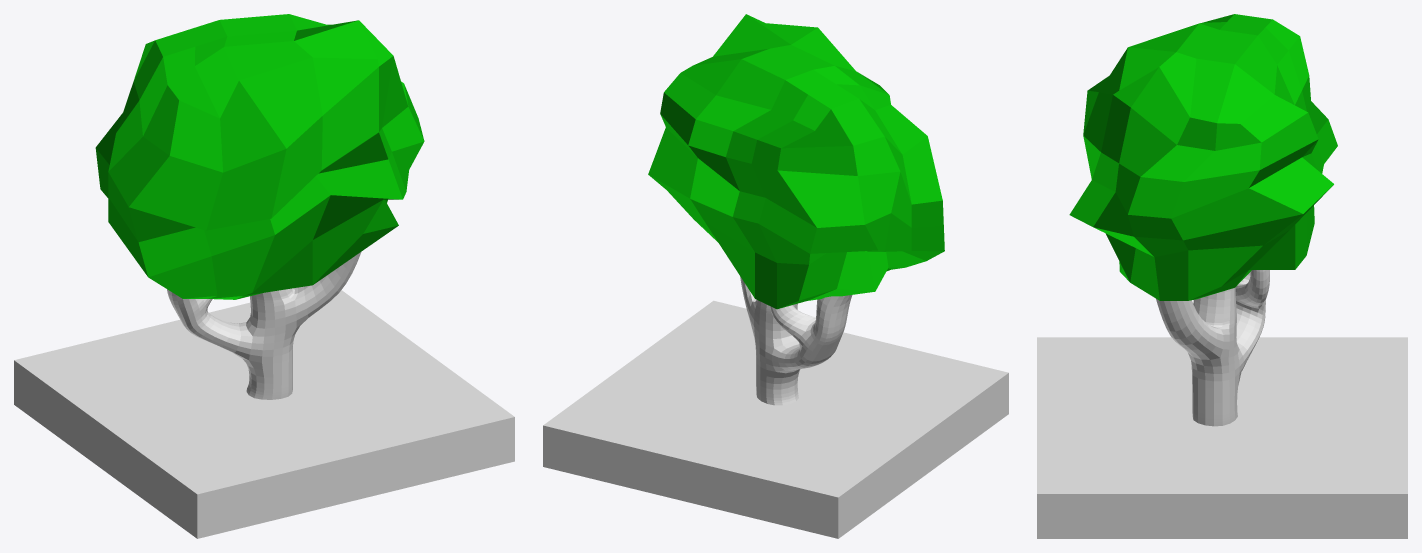
The model's file is tree.fbx.
3 views of the same model, side by side, from view 1: azimuth 30°, elevation 25°; view 2: azimuth 150°, elevation 25°; view 3: azimuth 270°, elevation 25° (orthographic). The views are drawn at different scales.
Parts seen in each view (by area): view 1: Cube.001, Cube, Cube.002; view 2: Cube, Cube.001, Cube.002; view 3: Cube, Cube.001, Cube.002.
Part boxes in pixels (left/top/right/bottom): Cube.001: left=95, top=14, right=424, bottom=299; Cube: left=14, top=290, right=514, bottom=538; Cube.002: left=167, top=252, right=361, bottom=399; Cube: left=543, top=300, right=1008, bottom=538; Cube.001: left=648, top=14, right=944, bottom=309; Cube.002: left=740, top=276, right=852, bottom=405; Cube: left=1037, top=337, right=1407, bottom=538; Cube.001: left=1069, top=14, right=1337, bottom=300; Cube.002: left=1156, top=270, right=1269, bottom=426.
Bounding box in the file's own units: 100 × 126 × 100.
